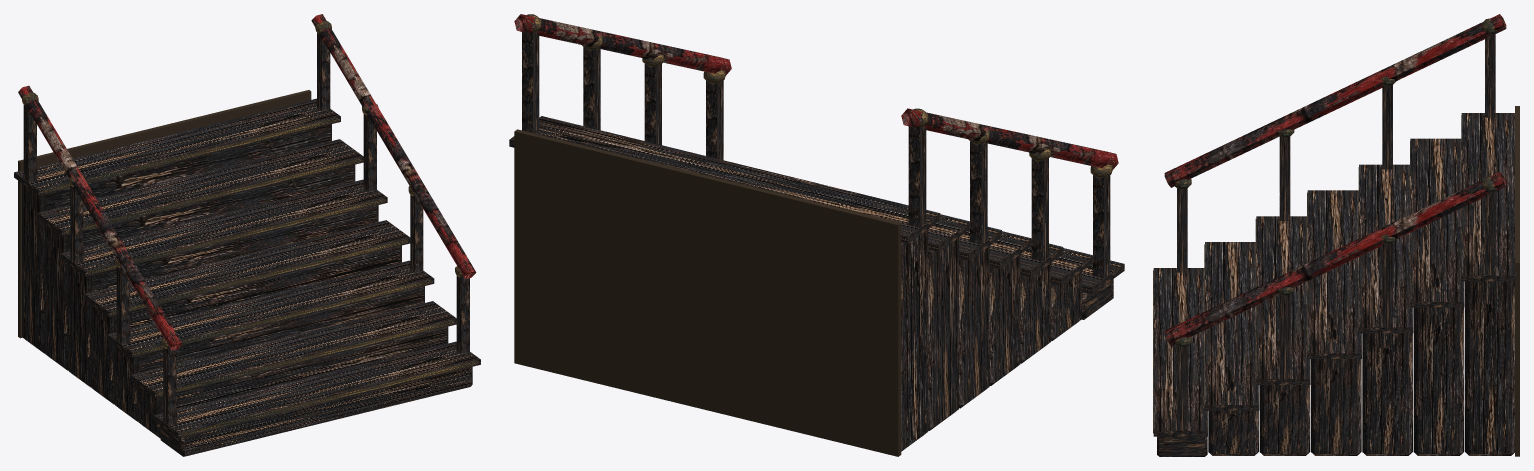
Rendered from nyanisyarud-hyakken-stairs.glb.
3 renders of one model, left to right at view 1: azimuth 30°, elevation 25°; view 2: azimuth 150°, elevation 25°; view 3: azimuth 270°, elevation 25°, orthographic. The views are drawn at different scales.
Parts seen in each view (by area): view 1: Stairs; view 2: Stairs; view 3: Stairs.
Boxes of the visible parts, x1,y1,x2,y2 form: Stairs: [14, 14, 480, 456]; Stairs: [509, 14, 1124, 456]; Stairs: [1153, 14, 1519, 456].
Size of the model in its own units: 2.75 by 2.2 by 2.57.
4 materials, 4 textured.
